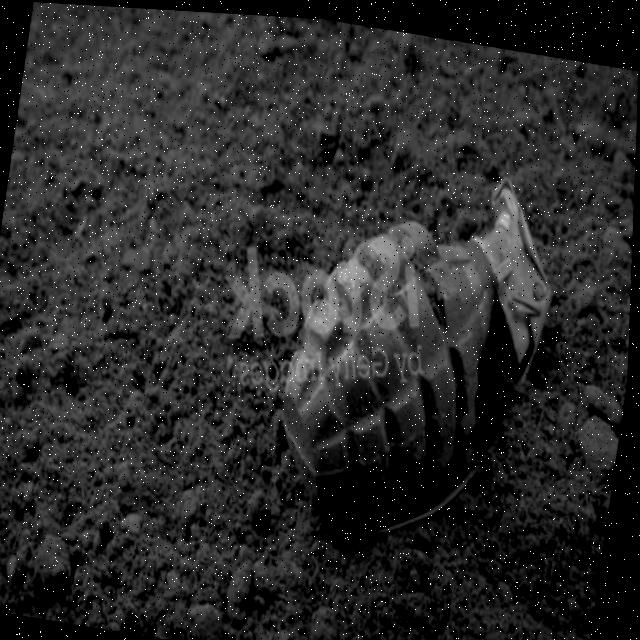grenade: (211, 116, 621, 579)
